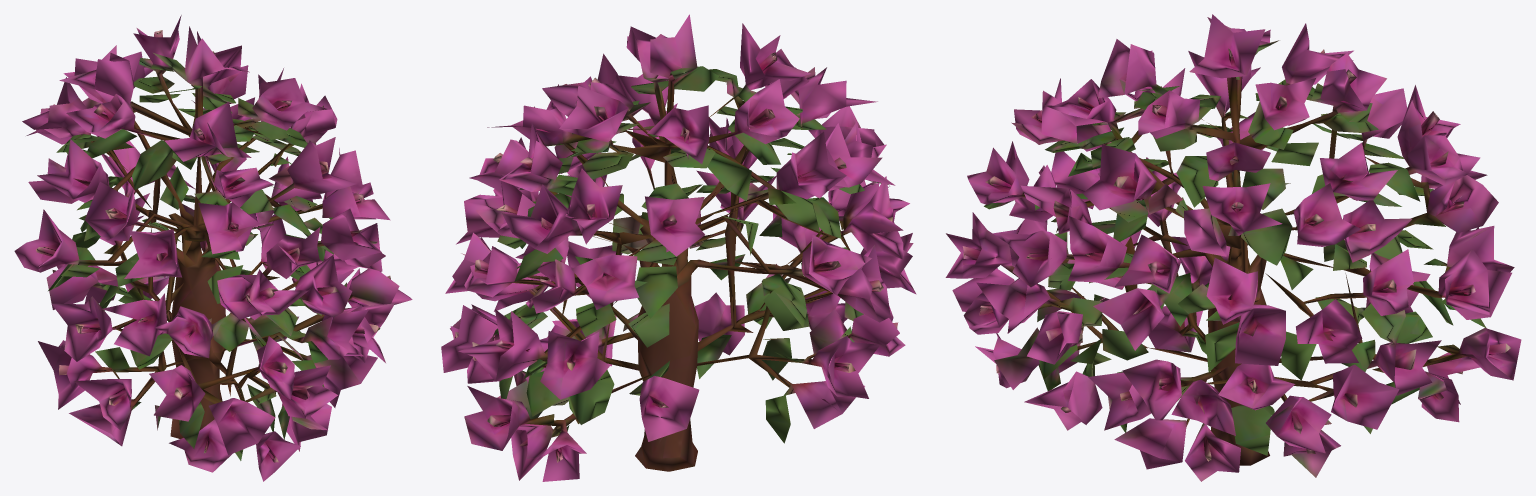
Rendered from bougainvillea.glb.
The picture shows the model from 3 angles, left to right: view 1: azimuth 30°, elevation 25°; view 2: azimuth 150°, elevation 25°; view 3: azimuth 270°, elevation 25°; orthographic projection. The views are drawn at different scales.
Visible parts, largest first — view 1: tripo_node_40c0e378-185d-42c8-b7ea-cbe3f90f396a; view 2: tripo_node_40c0e378-185d-42c8-b7ea-cbe3f90f396a; view 3: tripo_node_40c0e378-185d-42c8-b7ea-cbe3f90f396a.
Part boxes in pixels (x1=…): tripo_node_40c0e378-185d-42c8-b7ea-cbe3f90f396a: x1=14, y1=15, x2=412, y2=481; tripo_node_40c0e378-185d-42c8-b7ea-cbe3f90f396a: x1=441, y1=14, x2=916, y2=481; tripo_node_40c0e378-185d-42c8-b7ea-cbe3f90f396a: x1=945, y1=14, x2=1521, y2=481.
Bounding box in the file's own units: 0.7295 × 0.8 × 0.9604.
1 material, 1 textured.
